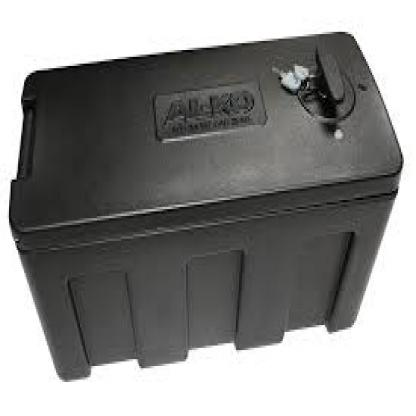Tool Box: (7, 26, 406, 387)
